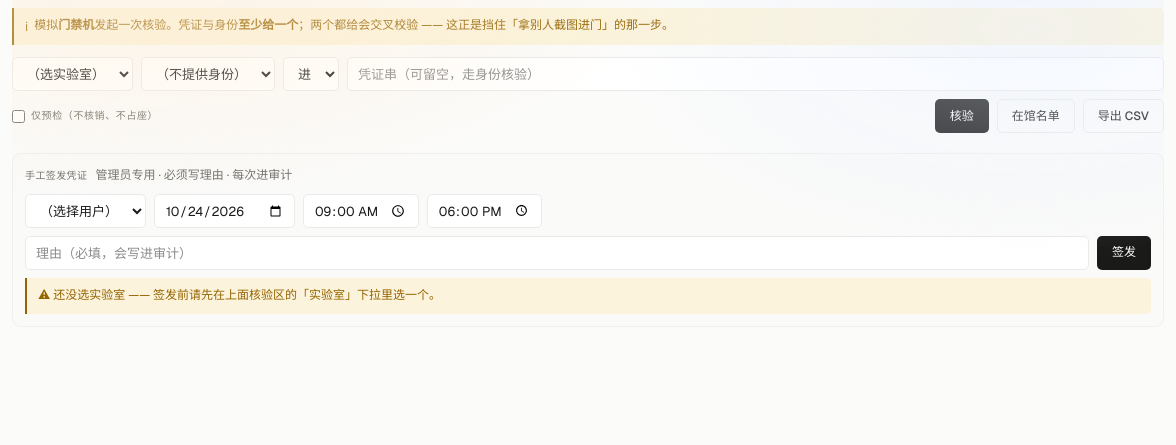
Test: GateSimPane › 在馆名单读的是 {count, inside}，不是裸数组
Step 1. Click the button "在馆名单" → click(1036, 116), box [997,99,1075,133]
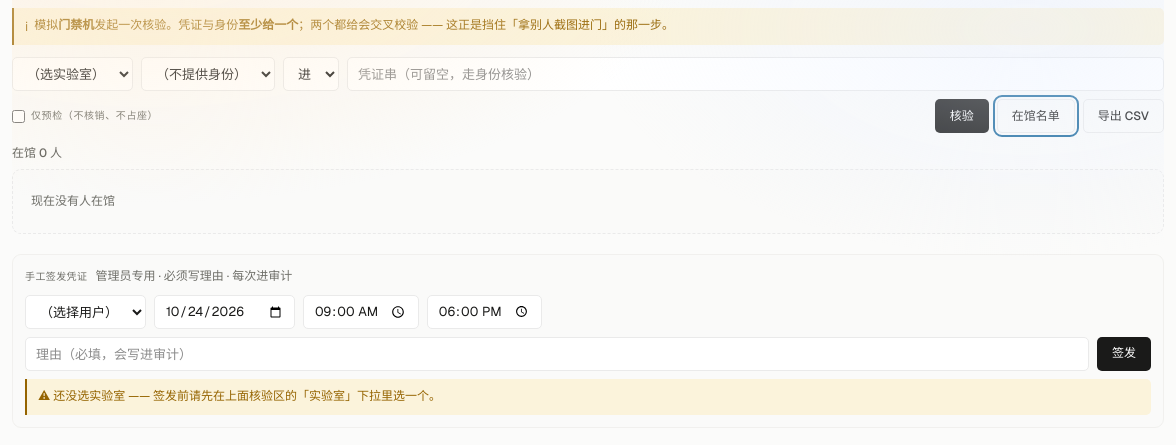
expect the text "在馆 0 人" is shown: met, box [12,145,62,161]
